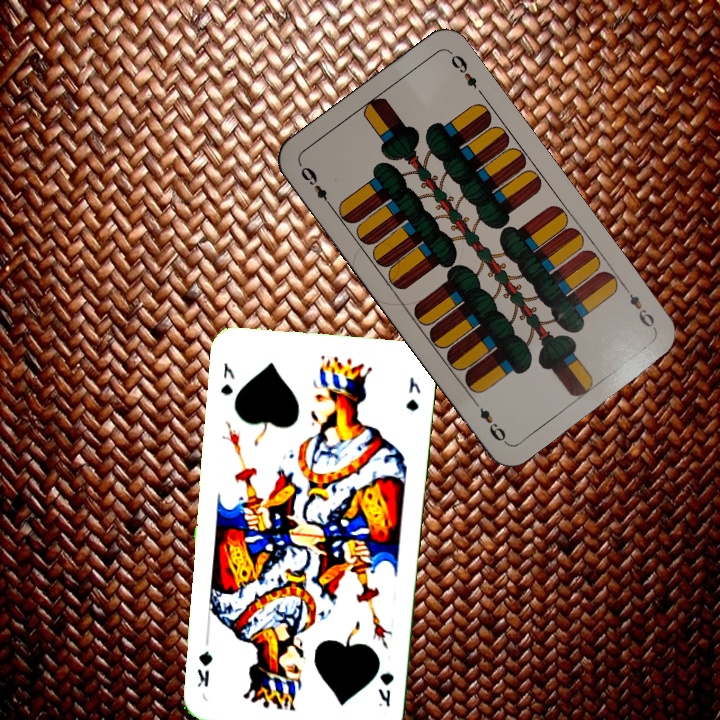E9: (295, 160, 336, 211), (620, 283, 660, 334)
GK: (374, 669, 396, 710), (216, 358, 237, 398)
